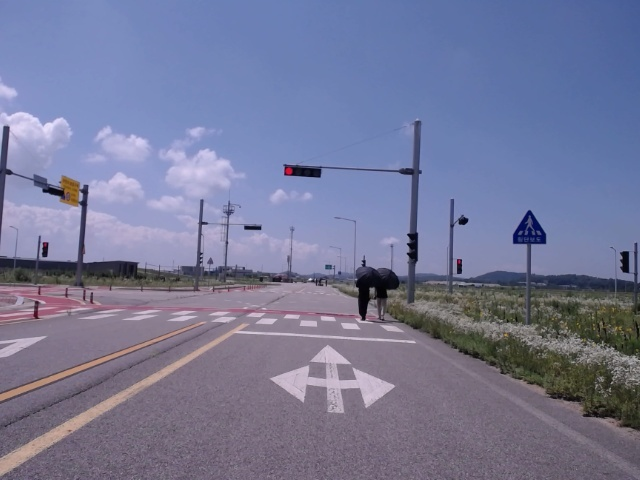red_4: (284, 166, 321, 178)
